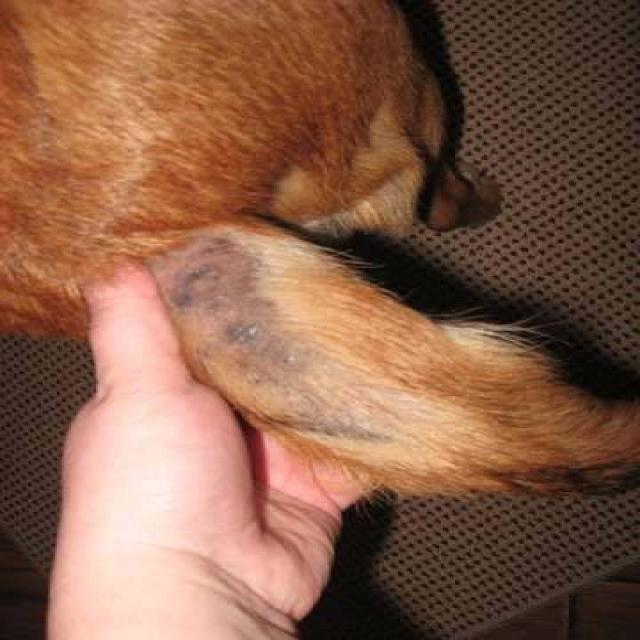allergic dermatitis: (155, 232, 385, 446)
